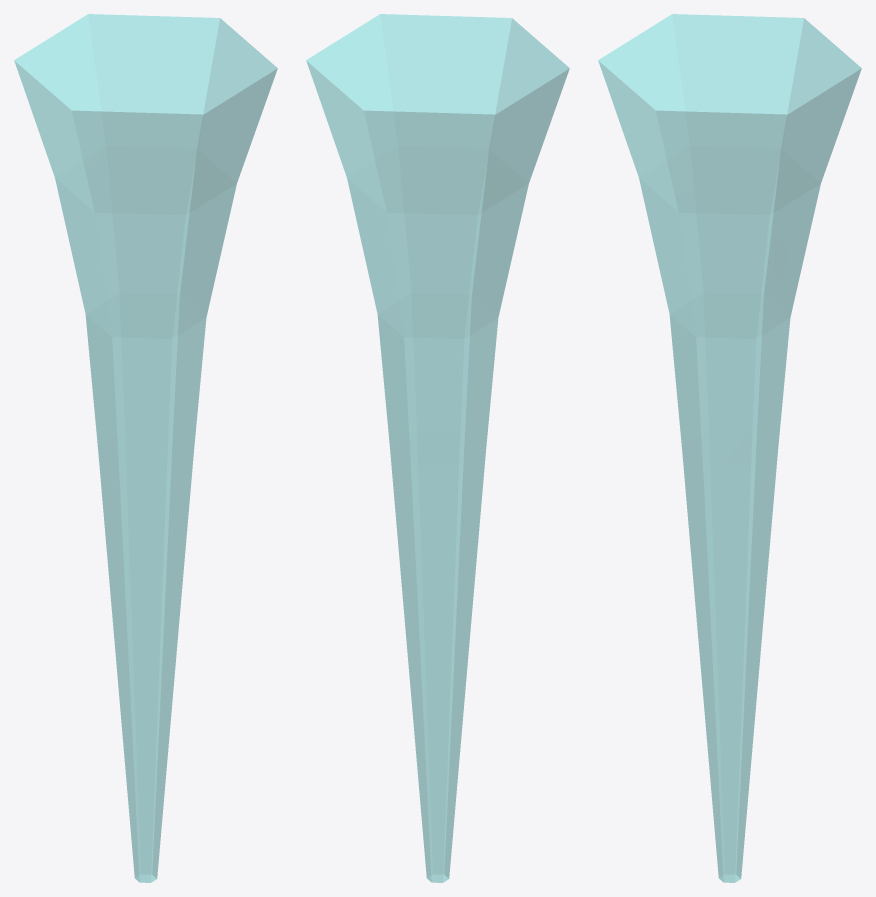
File: Rock_Stalactite_Ice_02.fbx
The picture shows the model from 3 angles, left to right: view 1: azimuth 30°, elevation 25°; view 2: azimuth 150°, elevation 25°; view 3: azimuth 270°, elevation 25°; orthographic projection.
Visible parts, largest first — view 1: Rock_Stalactite_Ice_02; view 2: Rock_Stalactite_Ice_02; view 3: Rock_Stalactite_Ice_02.
Boxes of the visible parts, x1=… form: Rock_Stalactite_Ice_02: x1=14, y1=14, x2=277, y2=882; Rock_Stalactite_Ice_02: x1=306, y1=14, x2=569, y2=882; Rock_Stalactite_Ice_02: x1=598, y1=14, x2=861, y2=882.
Bounding box in the file's own units: 18.45 × 69.66 × 20.45.
